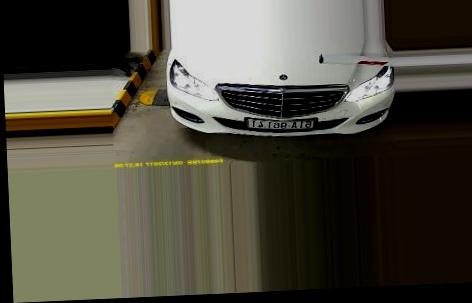License_Plate: (247, 113, 317, 133)
